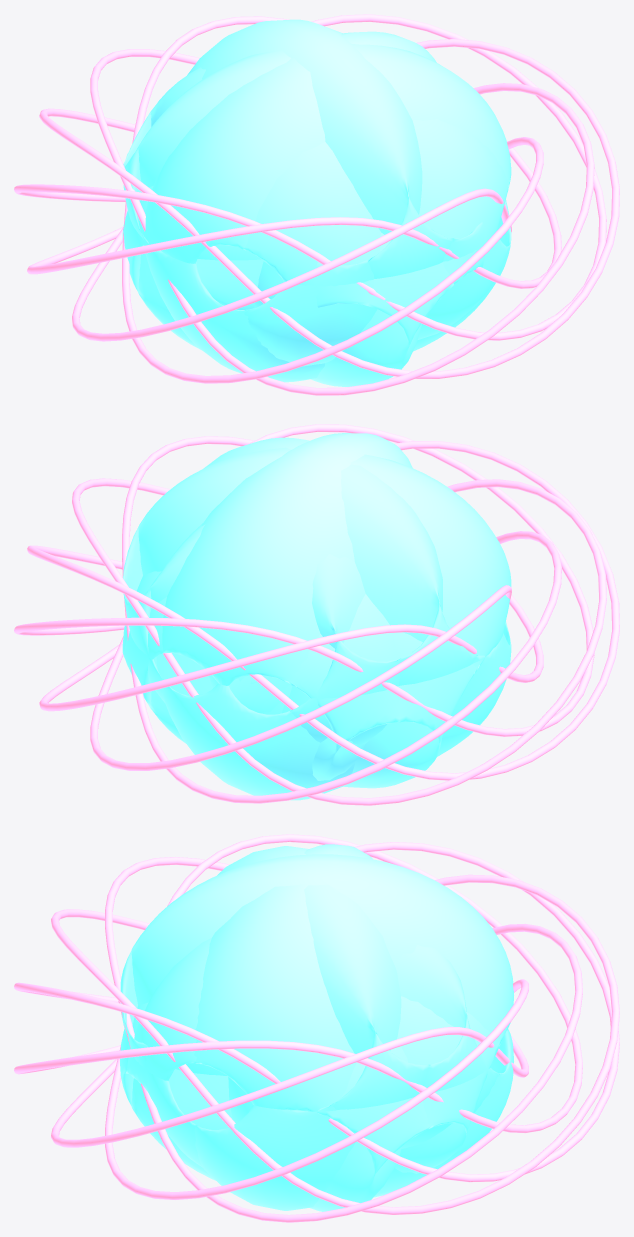
The model's file is k3_calabi_yau.glb.
The picture shows the model from 3 angles, top to bottom: view 1: azimuth 30°, elevation 25°; view 2: azimuth 150°, elevation 25°; view 3: azimuth 270°, elevation 25°; orthographic projection.
Visible parts, largest first — view 1: K3QuinticBrane, CuspDoublePointLocus_1, CuspDoublePointLocus_0; view 2: K3QuinticBrane, CuspDoublePointLocus_1, CuspDoublePointLocus_0; view 3: K3QuinticBrane, CuspDoublePointLocus_0, CuspDoublePointLocus_1.
Part boxes in pixels (x1=…): K3QuinticBrane: x1=122, y1=19, x2=511, y2=386; CuspDoublePointLocus_1: x1=27, y1=16, x2=619, y2=383; CuspDoublePointLocus_0: x1=14, y1=14, x2=606, y2=395; K3QuinticBrane: x1=122, y1=433, x2=511, y2=800; CuspDoublePointLocus_1: x1=14, y1=424, x2=606, y2=805; CuspDoublePointLocus_0: x1=27, y1=436, x2=619, y2=803; K3QuinticBrane: x1=120, y1=844, x2=513, y2=1211; CuspDoublePointLocus_0: x1=14, y1=834, x2=619, y2=1214; CuspDoublePointLocus_1: x1=14, y1=842, x2=619, y2=1222.
Bounding box in the file's own units: 3.69 × 2.21 × 3.63.
